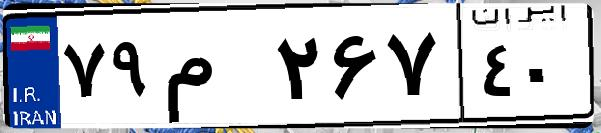0: (525, 38, 570, 115)
2: (270, 28, 330, 110)
4: (475, 38, 525, 113)
6: (330, 28, 385, 110)
7: (385, 28, 445, 110), (57, 26, 110, 100)
9: (110, 28, 158, 98)
م: (158, 20, 270, 120)
